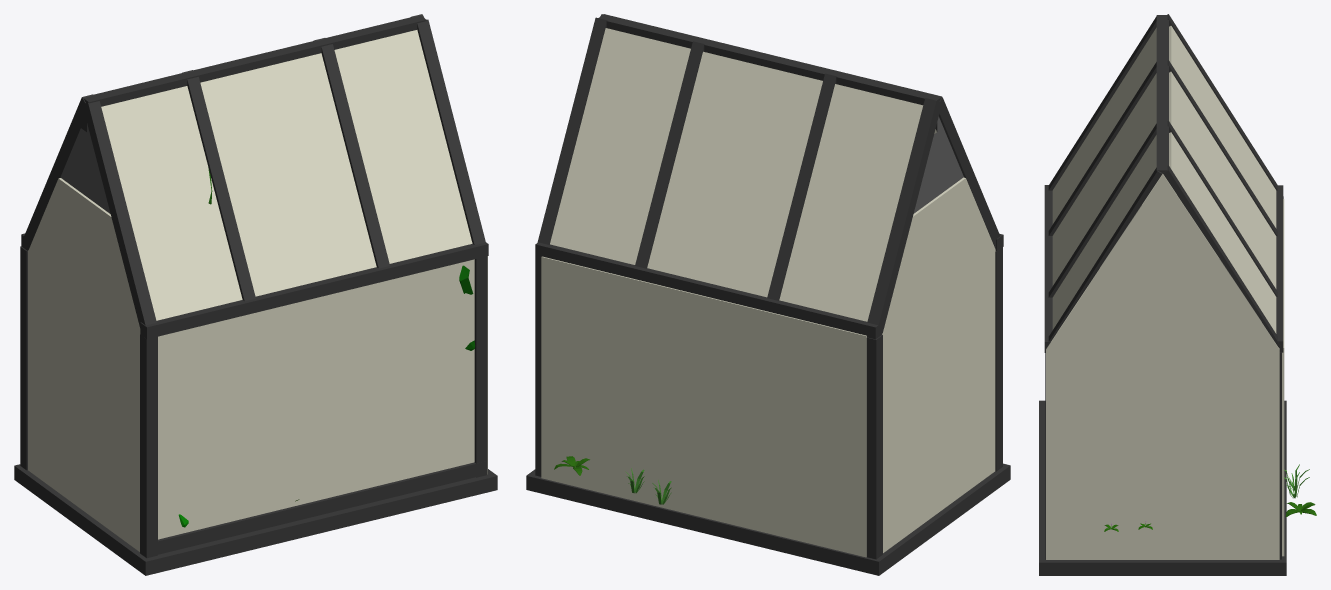
Rendered from terrarium 1.fbx.
3 renders of one model, left to right at view 1: azimuth 30°, elevation 25°; view 2: azimuth 150°, elevation 25°; view 3: azimuth 270°, elevation 25°, orthographic. The views are drawn at different scales.
Parts seen in each view (by area): view 1: glass_5, glass_1, glass_2, floor, Cube__1_1, floor1, Cube__1_3, Cube__1_7, Cube__2_, Cube__1_4, Cube__1_9, Cube__1_8 (+4 smaller); view 2: glass_3, glass_6, glass_2, floor, Cube__1_2, Cube__1_3, Cube__1_6, Cube__3_, Cube__1_11, Cube__1_10, Cube__1_5, terrarium_1 (+3 smaller); view 3: glass_7, glass_6, glass_5, floor, Cube__1_3, Cube__1_5, Cube__1_4, Cube__1_1, Cube__1_7, Cube__1_9, Cube__1_8, Cube__1_2 (+5 smaller).
Boxes of the visible parts, <box> form: glass_5: <box>101,30,472,320</box>; glass_1: <box>158,259,474,539</box>; glass_2: <box>28,178,140,551</box>; floor: <box>14,464,497,575</box>; Cube__1_1: <box>140,242,488,339</box>; floor1: <box>158,461,485,554</box>; Cube__1_3: <box>83,15,426,106</box>; Cube__1_7: <box>82,101,156,327</box>; Cube__2_: <box>140,334,157,558</box>; Cube__1_4: <box>417,19,485,244</box>; Cube__1_9: <box>321,44,389,268</box>; Cube__1_8: <box>187,77,255,301</box>; glass_3: <box>541,256,866,557</box>; glass_6: <box>550,28,923,321</box>; glass_2: <box>882,177,995,552</box>; floor: <box>526,463,1010,575</box>; Cube__1_2: <box>535,242,882,339</box>; Cube__1_3: <box>598,14,941,105</box>; Cube__1_6: <box>867,98,940,333</box>; Cube__3_: <box>866,335,882,559</box>; Cube__1_11: <box>767,73,836,300</box>; Cube__1_10: <box>635,41,704,268</box>; Cube__1_5: <box>537,17,607,244</box>; terrarium_1: <box>913,116,963,213</box>; glass_7: <box>1046,174,1279,559</box>; glass_6: <box>1169,26,1276,333</box>; glass_5: <box>1052,27,1156,329</box>; floor: <box>1039,400,1286,575</box>; Cube__1_3: <box>1156,15,1168,172</box>; Cube__1_5: <box>1159,165,1280,347</box>; Cube__1_4: <box>1048,167,1167,341</box>; Cube__1_1: <box>1044,185,1052,352</box>; Cube__1_7: <box>1048,16,1156,190</box>; Cube__1_9: <box>1048,123,1156,297</box>; Cube__1_8: <box>1048,62,1156,235</box>; Cube__1_2: <box>1276,185,1283,352</box>.
Size of the model in its own units: 7002 by 7748 by 4847.
